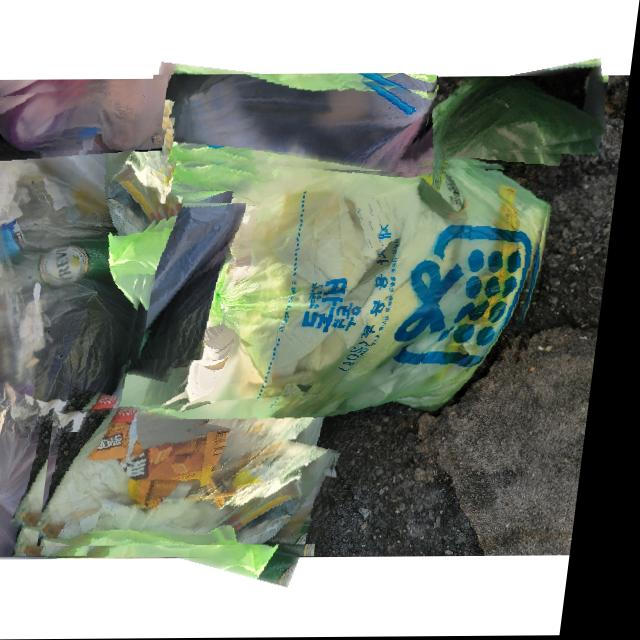general_trashbag: (92, 146, 553, 455), (53, 406, 348, 545), (118, 204, 249, 360), (417, 79, 609, 168)
other_trashbag: (0, 134, 147, 557), (152, 75, 435, 174), (0, 79, 170, 150)
